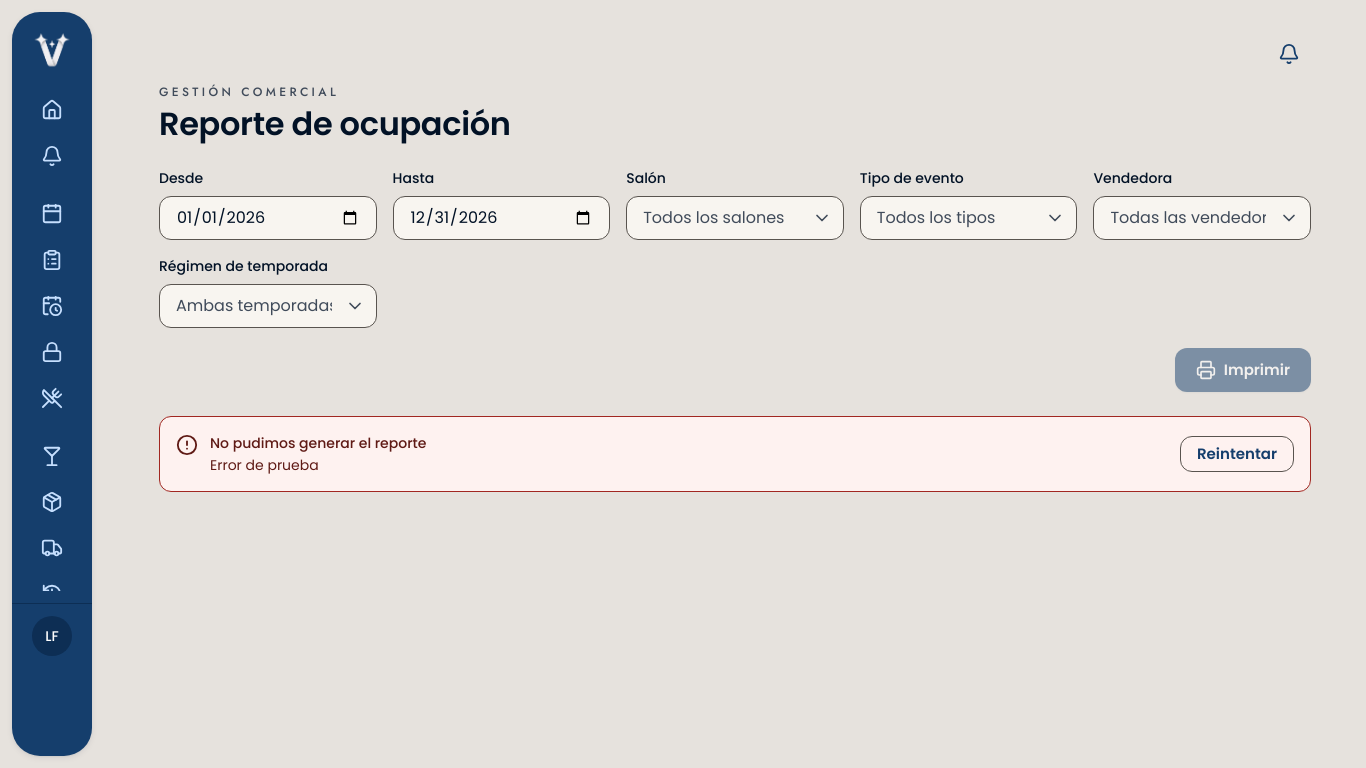
Test: informa un error y permite reintentar la consulta
The image size is (1366, 768).
expect the text "Error de prueba" is shown: met, box [210,455,319,475]
Click the button "Reintentar". click: (1237, 454)
box: [1180,436,1294,472]
(page scrolled)
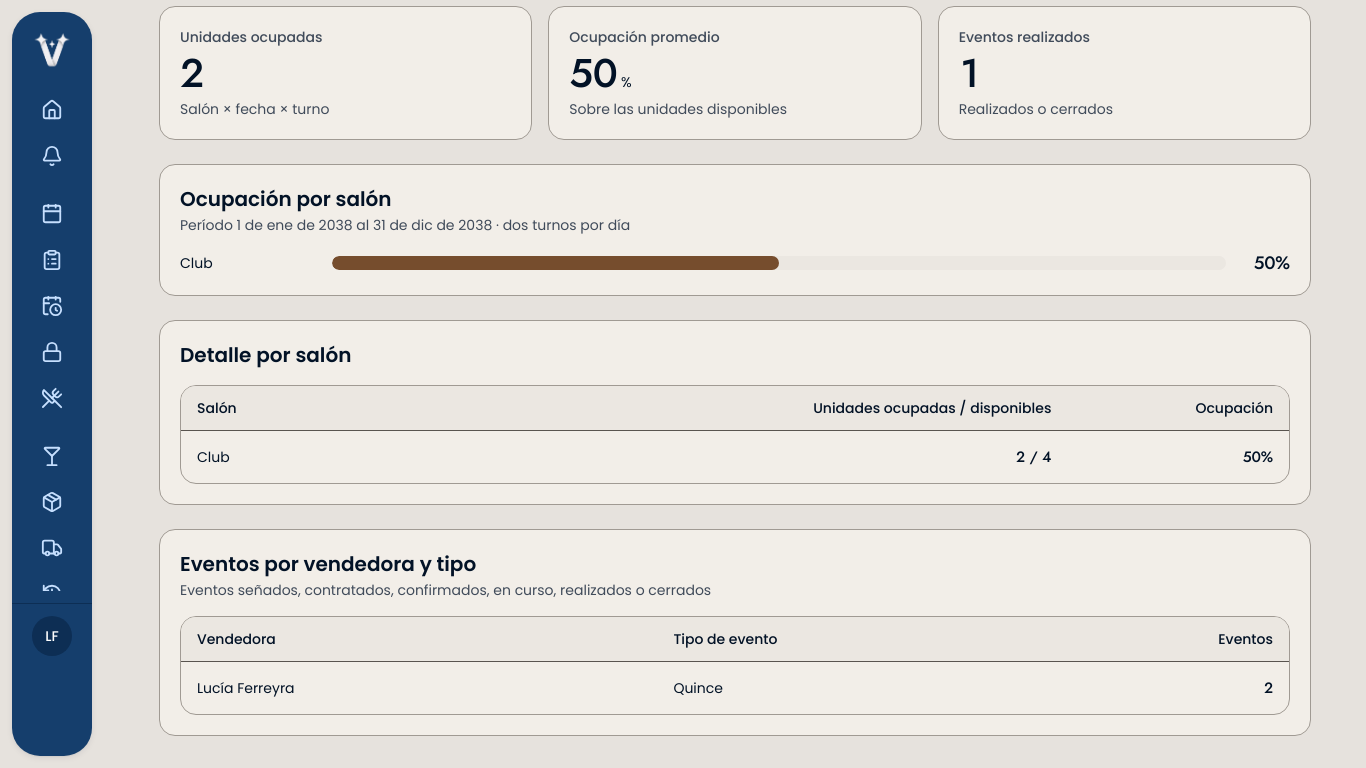
expect the table named "Ocupación por salón" is shown: met, box [181,386,1289,483]
